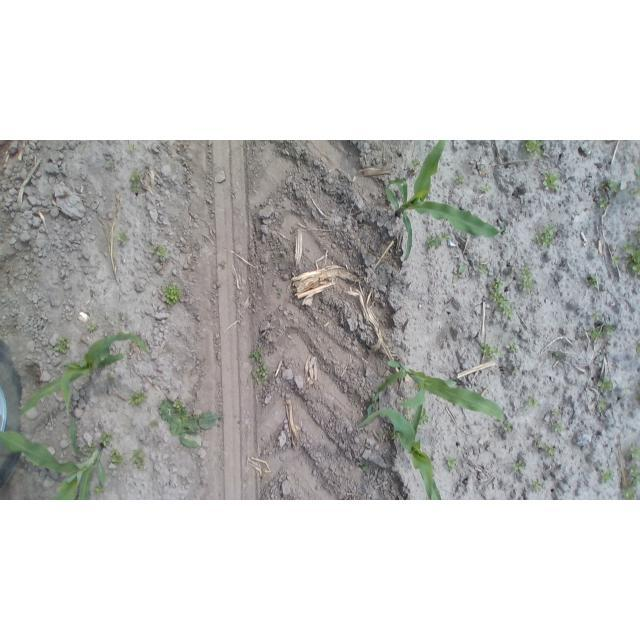Maize: (384, 140, 505, 262), (15, 331, 154, 420), (357, 354, 507, 431), (1, 415, 112, 500), (362, 399, 451, 500)
Weeds: (156, 397, 221, 448), (489, 280, 516, 323), (618, 465, 640, 500), (622, 242, 640, 277), (535, 224, 557, 249), (161, 283, 183, 308), (589, 323, 615, 342), (522, 141, 547, 160), (425, 233, 451, 250), (520, 266, 537, 292), (541, 170, 561, 192), (481, 341, 502, 361), (130, 448, 148, 471), (252, 363, 270, 385), (52, 336, 72, 355), (129, 170, 144, 194), (601, 178, 622, 195), (128, 390, 147, 408), (595, 376, 613, 394), (109, 449, 125, 469), (597, 468, 615, 485), (152, 243, 168, 261), (452, 263, 468, 280), (511, 457, 526, 474), (98, 433, 115, 448), (250, 349, 265, 366), (626, 442, 638, 463), (444, 455, 458, 472), (417, 411, 431, 428), (597, 193, 611, 209), (525, 395, 539, 410), (586, 273, 600, 288), (116, 230, 130, 244), (550, 421, 565, 434), (531, 479, 544, 493), (505, 341, 519, 354), (548, 351, 564, 362), (477, 263, 490, 276), (479, 183, 493, 195), (85, 322, 100, 333), (92, 485, 106, 496), (410, 157, 421, 171), (597, 397, 607, 412), (545, 445, 557, 457), (358, 460, 370, 472), (533, 438, 544, 450), (502, 421, 513, 433), (455, 173, 466, 185), (276, 287, 286, 300), (611, 251, 620, 265), (389, 430, 400, 441), (218, 260, 229, 271), (550, 408, 561, 419), (592, 311, 603, 322), (633, 226, 640, 243), (289, 225, 300, 235), (628, 187, 639, 197), (105, 159, 115, 170), (632, 391, 640, 404), (128, 142, 138, 152), (511, 366, 520, 376), (148, 420, 158, 429), (635, 167, 640, 180)
